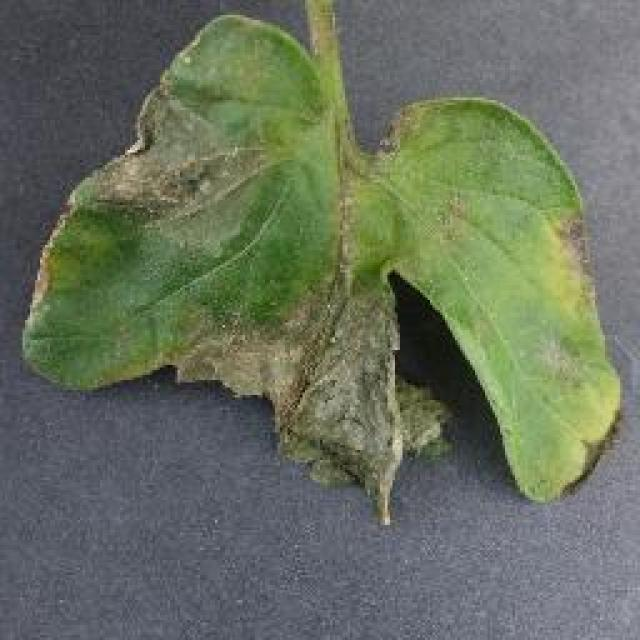Tomato late blight leaf: (23, 13, 620, 530)
